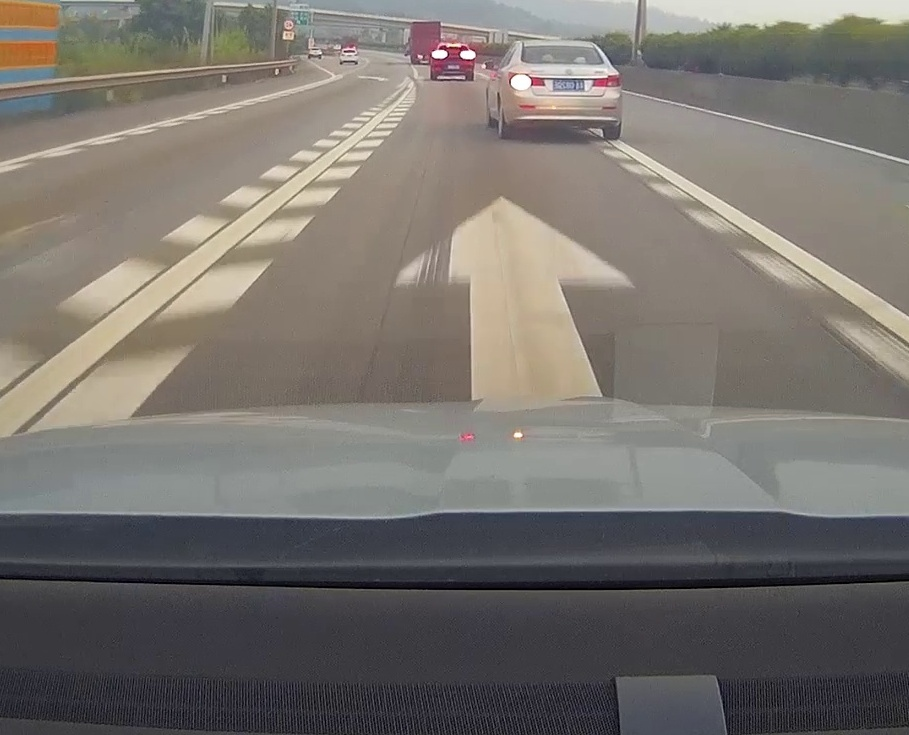L_light: (508, 72, 545, 86), (432, 51, 444, 57)
R_light: (592, 74, 620, 87), (460, 52, 474, 58)
T_light: (448, 44, 459, 46)
day-brake: (430, 42, 475, 81)
day-left: (503, 40, 621, 140)
day-no: (554, 44, 570, 47)
